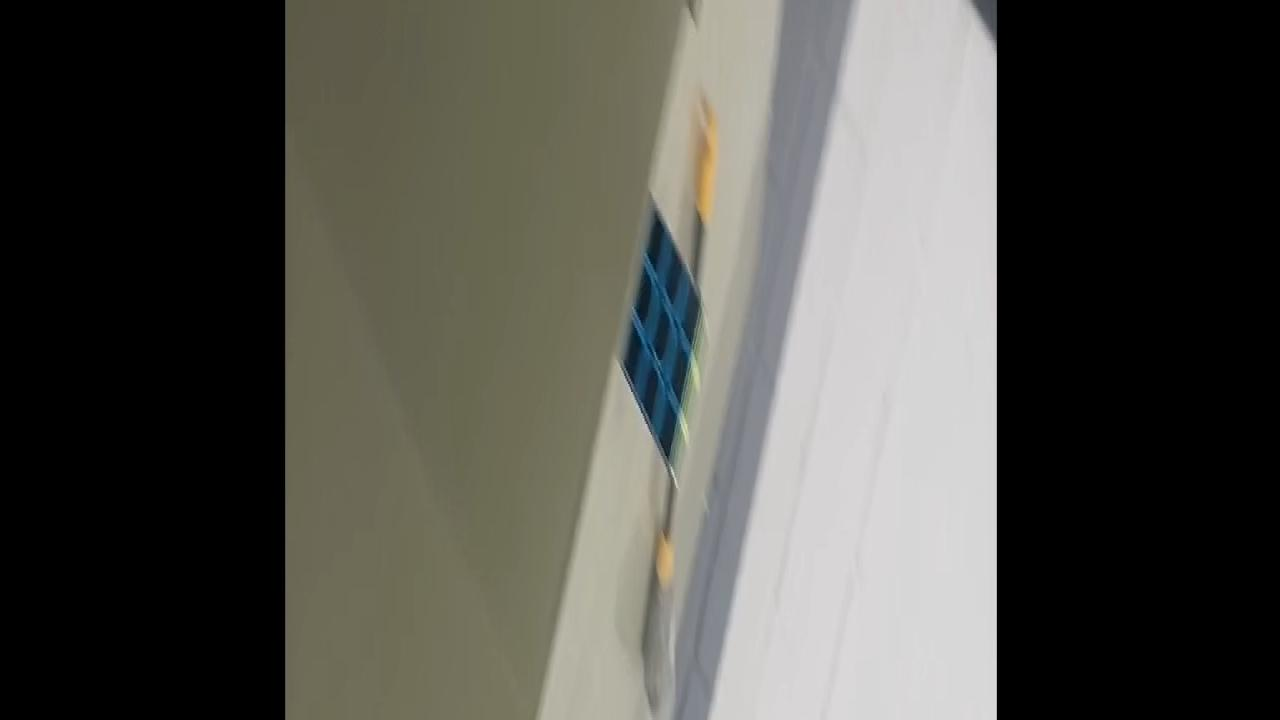Cube: (618, 190, 708, 480)
